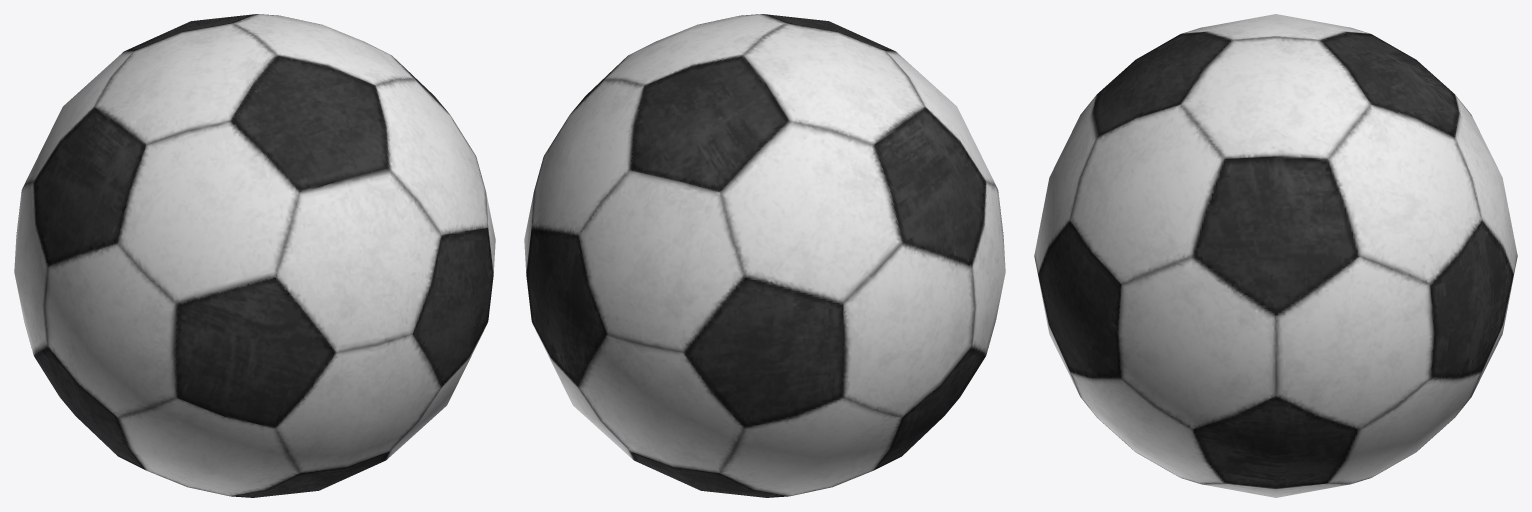
Rendered from P_Ball_FreeMode (2).fbx.
3 views of the same model, side by side, from view 1: azimuth 30°, elevation 25°; view 2: azimuth 150°, elevation 25°; view 3: azimuth 270°, elevation 25° (orthographic).
Parts seen in each view (by area): view 1: P_Ball_FreeMode (2); view 2: P_Ball_FreeMode (2); view 3: P_Ball_FreeMode (2).
Part boxes in pixels (x1,y1,x2,y2): P_Ball_FreeMode (2): (14,14,495,497); P_Ball_FreeMode (2): (524,14,1005,497); P_Ball_FreeMode (2): (1034,14,1517,497).
Bounding box in the file's own units: 647 × 647 × 647.
Materials: 1 (1 with a texture image).
